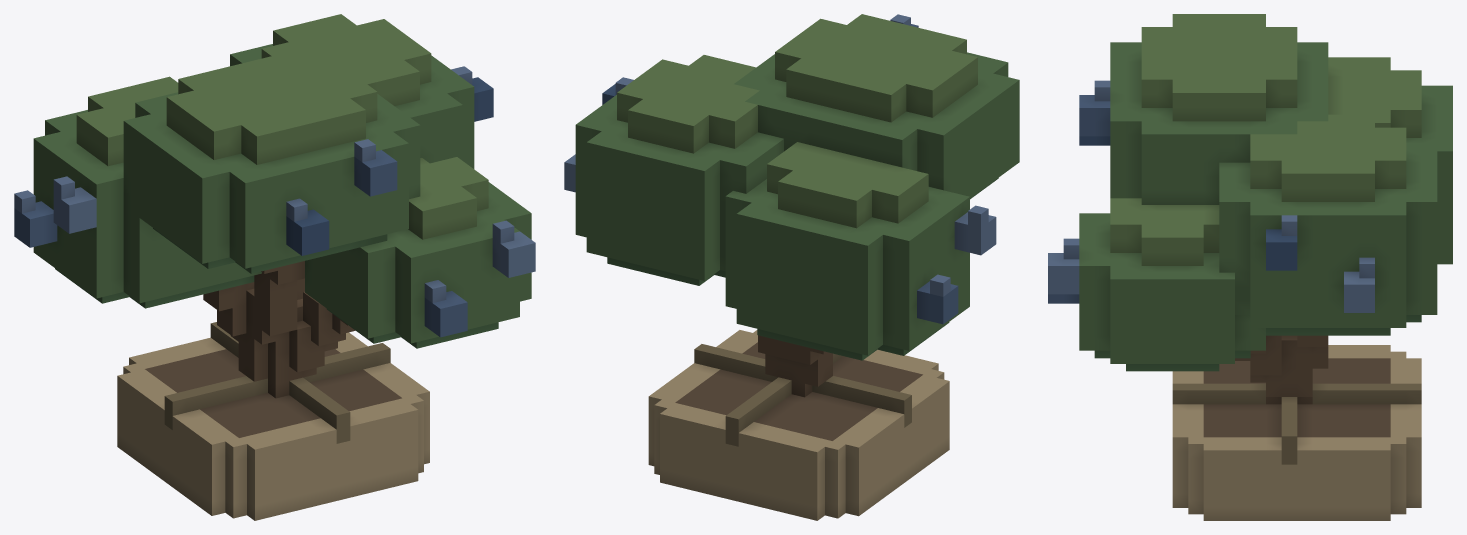
Rendered from blueberry_packed_summer.glb.
3 views of the same model, side by side, from view 1: azimuth 30°, elevation 25°; view 2: azimuth 150°, elevation 25°; view 3: azimuth 270°, elevation 25° (orthographic). The views are drawn at different scales.
Parts seen in each view (by area): view 1: VoxelVisual; view 2: VoxelVisual; view 3: VoxelVisual.
Boxes of the visible parts, x1,y1,x2,y2 form: VoxelVisual: (14, 14, 535, 520); VoxelVisual: (564, 14, 1019, 520); VoxelVisual: (1048, 14, 1452, 520).
Size of what is drawn, in the model's own units: 1.88 by 1.75 by 1.62.
